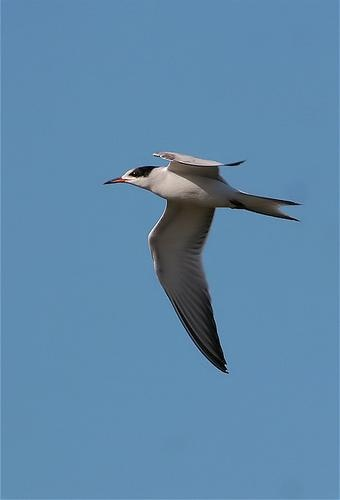bird: (102, 149, 302, 383)
